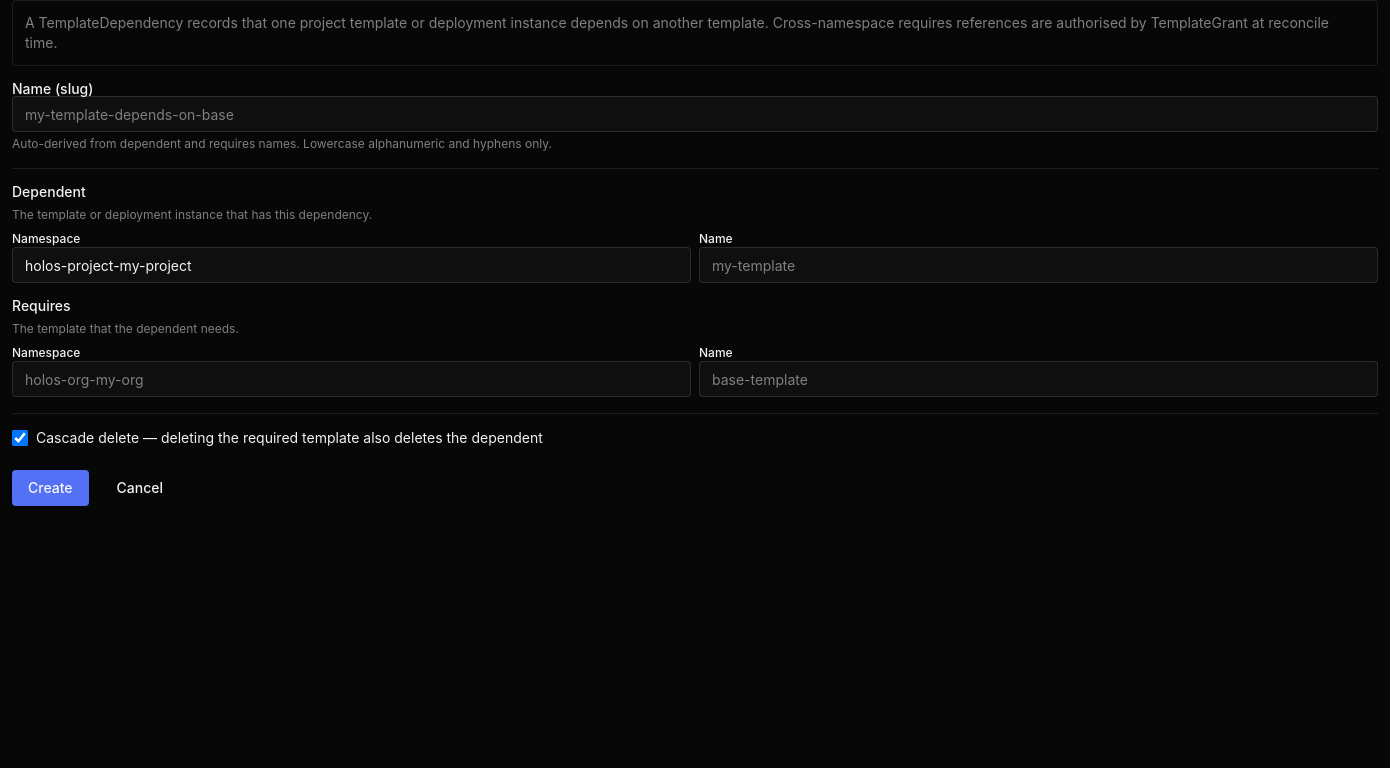
DependencyForm › shows an error when dependent fields are empty on submit
This screenshot has width=1390, height=768.
# Fill name but not dependent
Type "my-dep" into the field named "Dependency name" at coordinates (695, 114), box [12,96,1378,132]
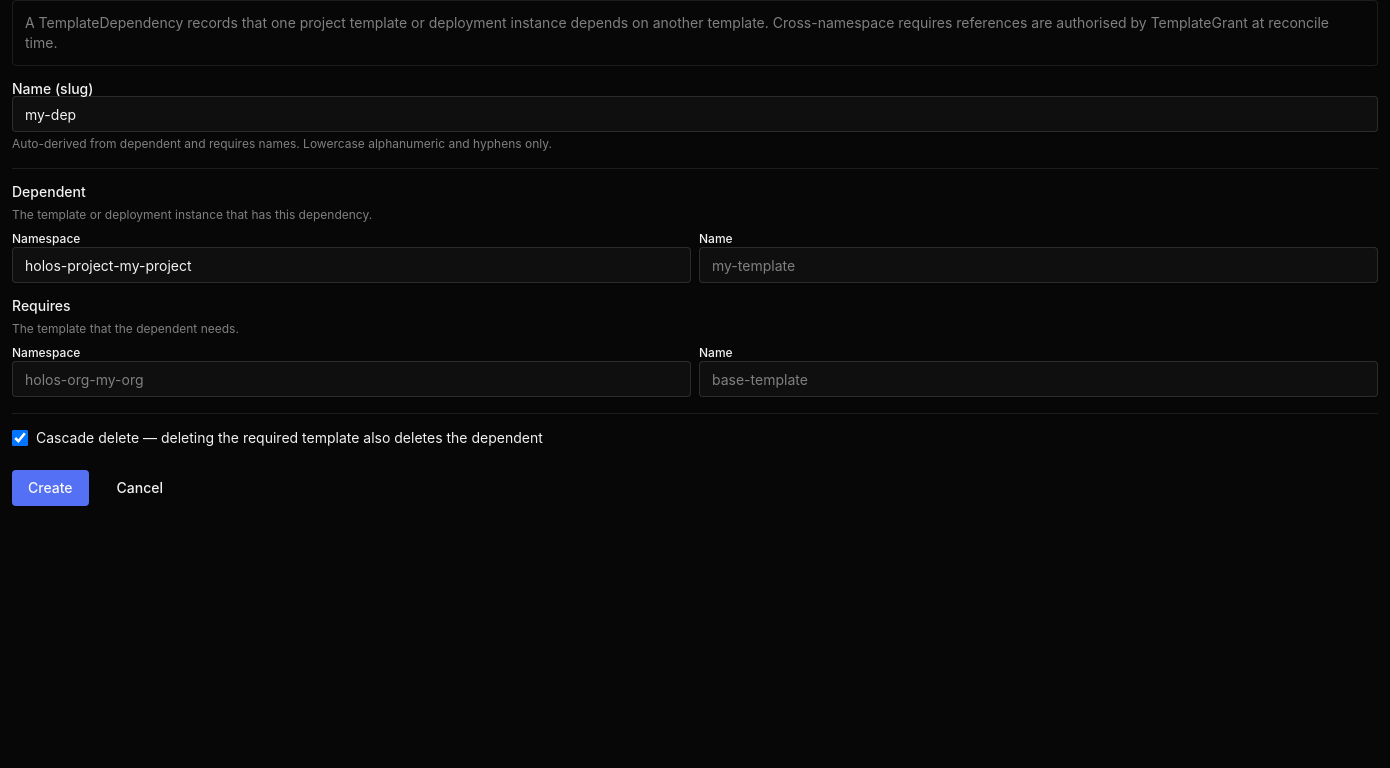
Click the button "Create" at coordinates (50, 488), box [12,470,89,506]
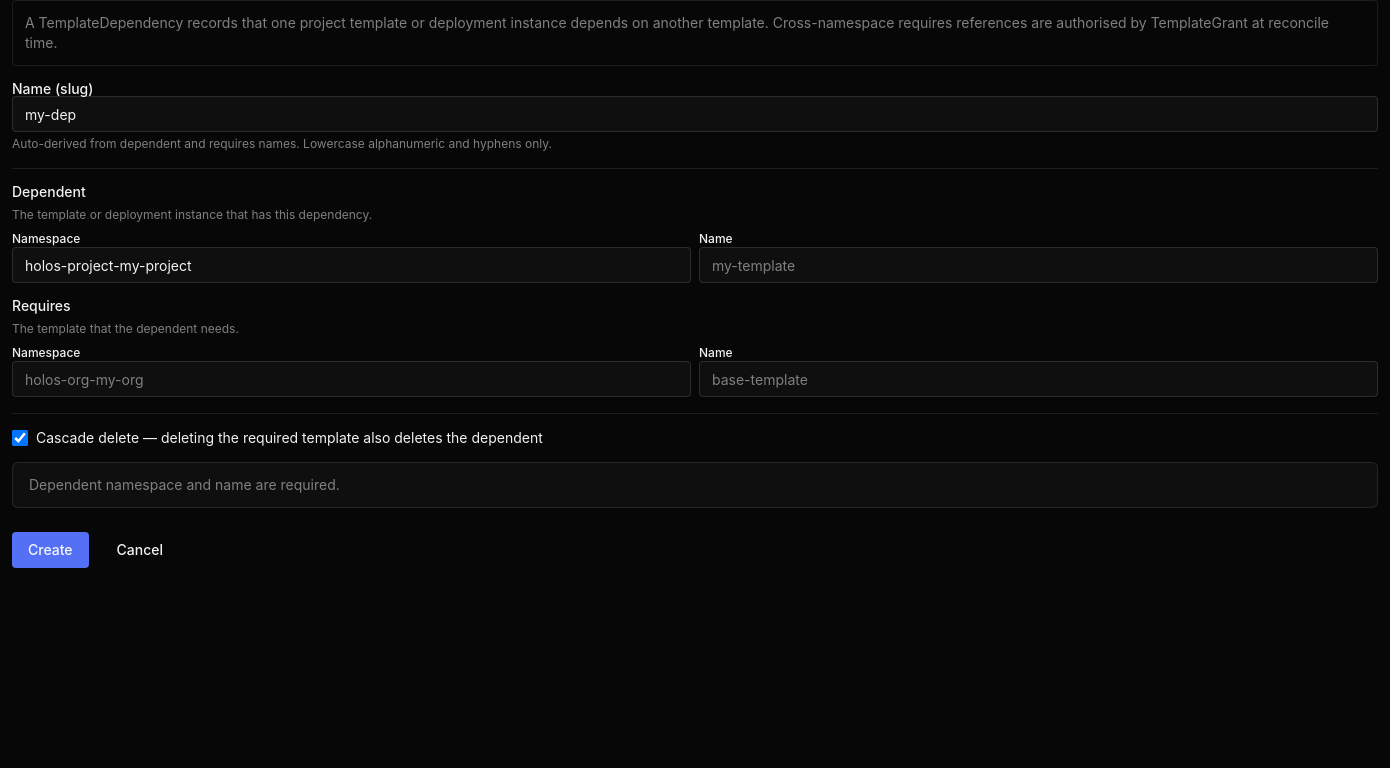
Expected: the element with test id "dependency-form-error" shows "Dependent namespace and name are required", [29,476,340,493]
